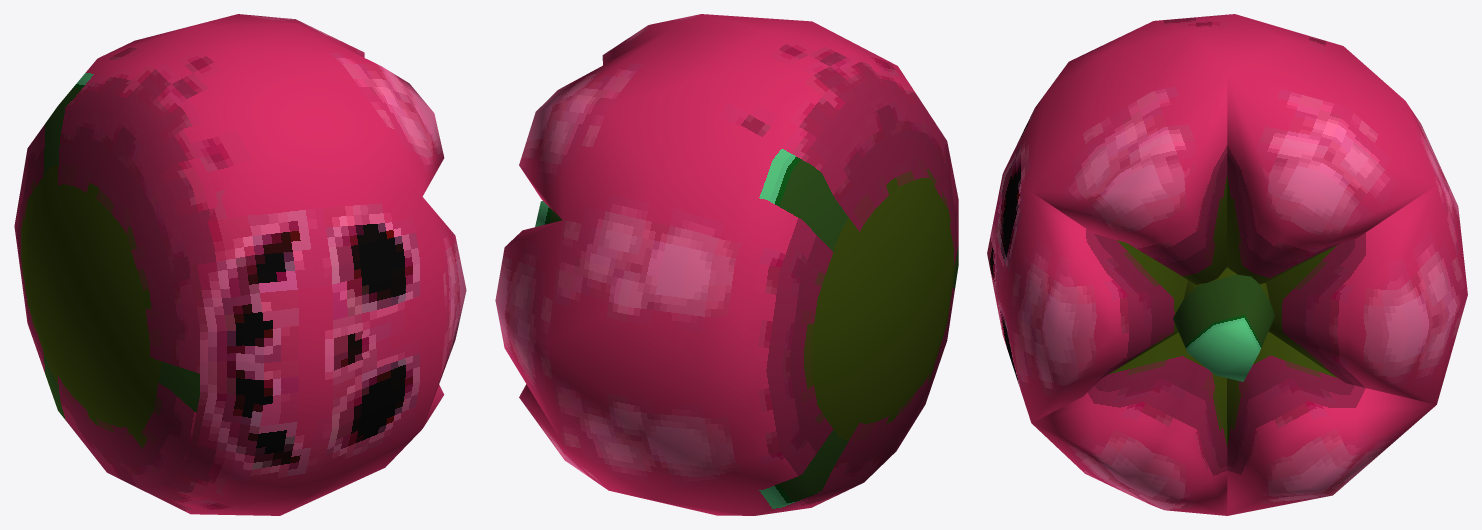
File: hlmt_jackolantern_4.dae
The picture shows the model from 3 angles, left to right: view 1: azimuth 30°, elevation 25°; view 2: azimuth 150°, elevation 25°; view 3: azimuth 270°, elevation 25°; orthographic projection.
Parts seen in each view (by area): view 1: hlmt_jackolantern_4; view 2: hlmt_jackolantern_4; view 3: hlmt_jackolantern_4.
Boxes of the visible parts, <box> form: hlmt_jackolantern_4: <box>14,14,466,515</box>; hlmt_jackolantern_4: <box>495,14,958,515</box>; hlmt_jackolantern_4: <box>987,14,1467,515</box>.
Bounding box in the file's own units: 23 × 28.37 × 27.49.
2 materials, 2 textured.
